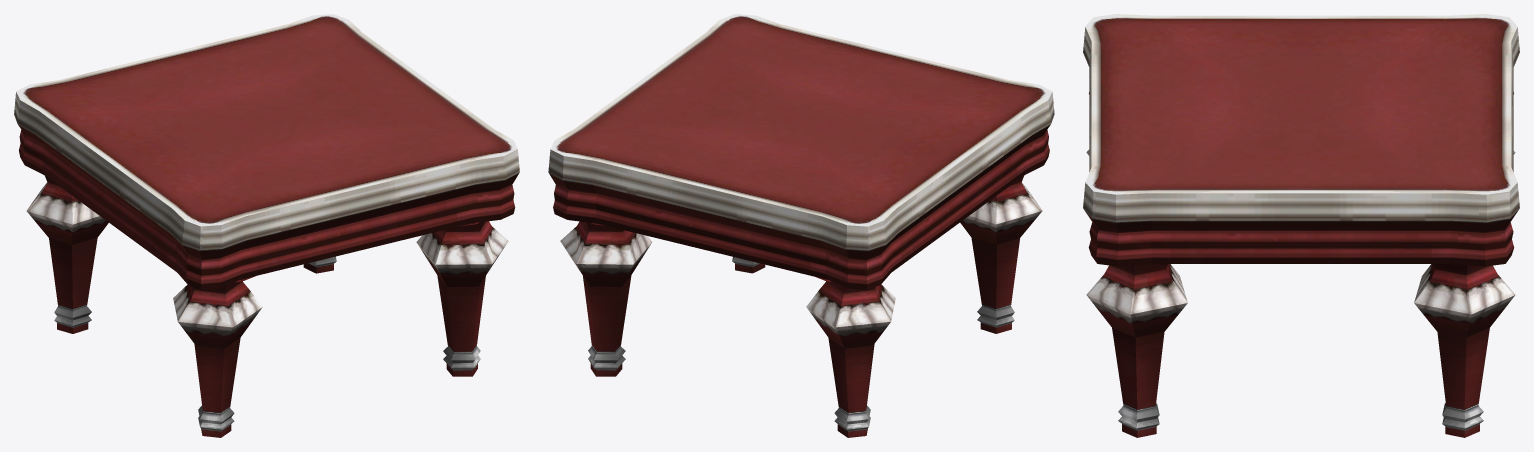
Rendered from furni_0201109_02.FBX.
3 views of the same model, side by side, from view 1: azimuth 30°, elevation 25°; view 2: azimuth 150°, elevation 25°; view 3: azimuth 270°, elevation 25° (orthographic). The views are drawn at different scales.
Visible parts, largest first — view 1: furni_0201109_02; view 2: furni_0201109_02; view 3: furni_0201109_02.
Part boxes in pixels (bbox=[...]): furni_0201109_02: bbox=[14, 14, 519, 437]; furni_0201109_02: bbox=[548, 14, 1054, 437]; furni_0201109_02: bbox=[1083, 14, 1519, 437].
Bounding box in the file's own units: 77.46 × 50.62 × 77.79.
Materials: 1 (1 with a texture image).
